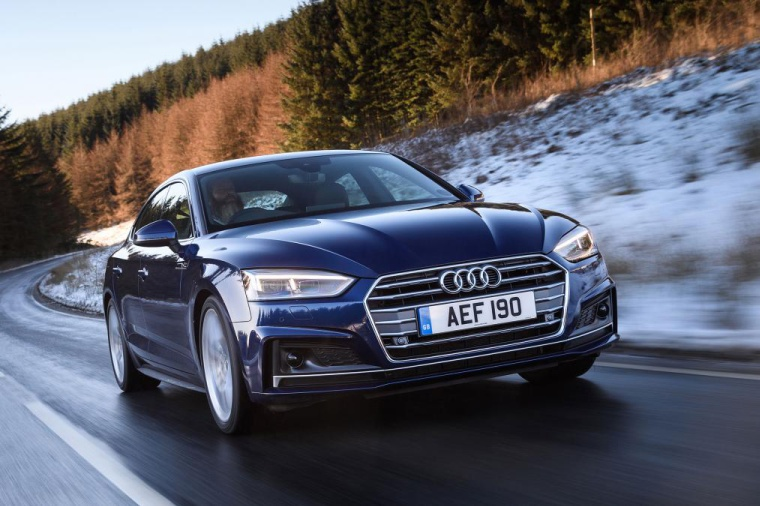audi: (432, 265, 504, 296)
